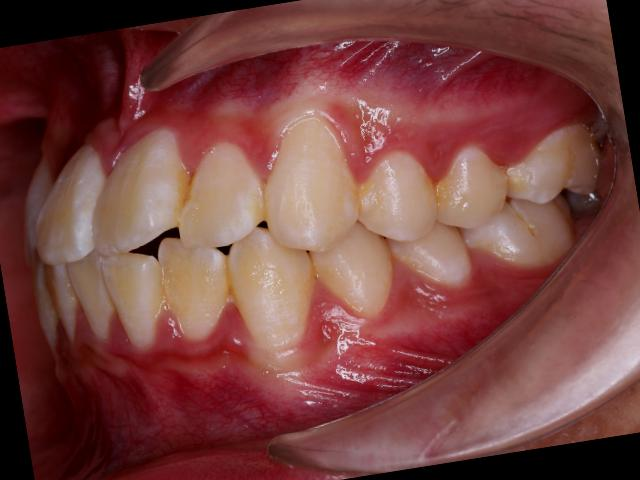canine class III 1/4: (198, 95, 404, 361)
molar class II 1/2: (444, 120, 619, 280)
